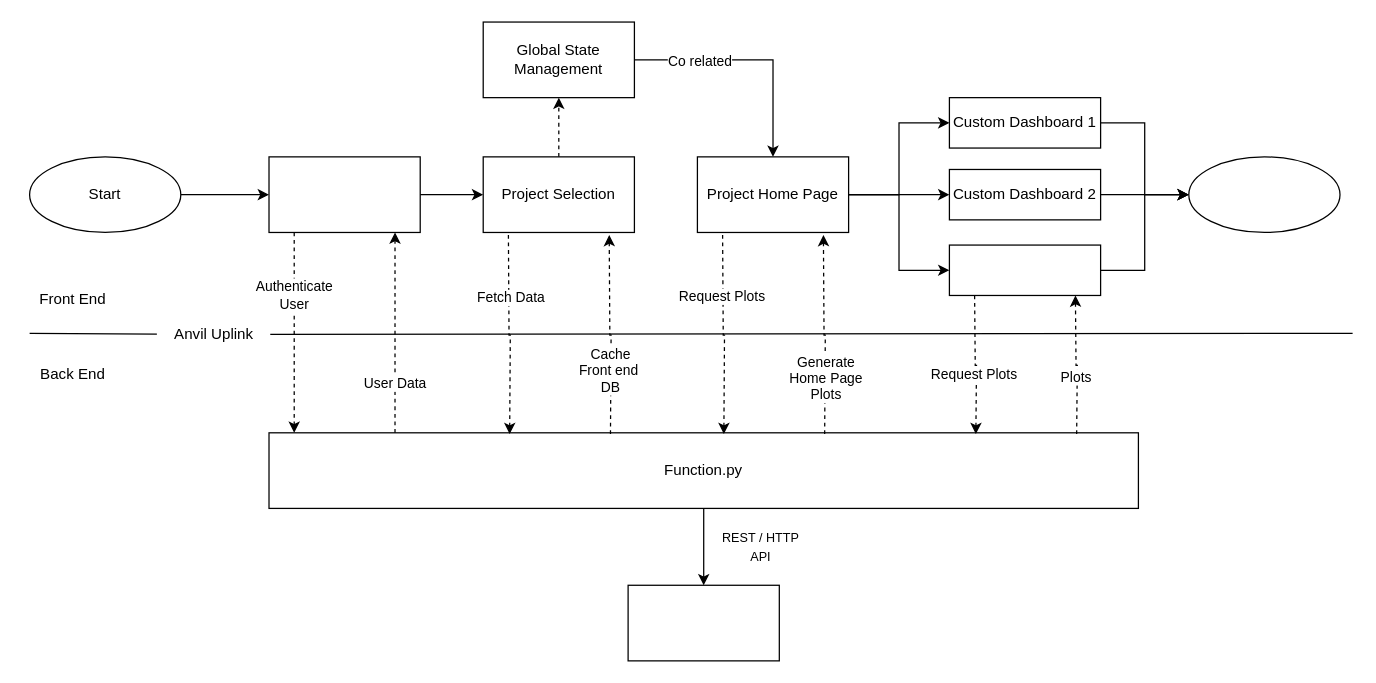
Image size: 1376x683. Some labels were removed from this diagram. The centre of each missing label's shape, as x and y in pixels:
Custom Dashboard 3: point 1024,269
Energy Data Log: point 703,622
Login: point 344,194
Stop: point 1264,194
